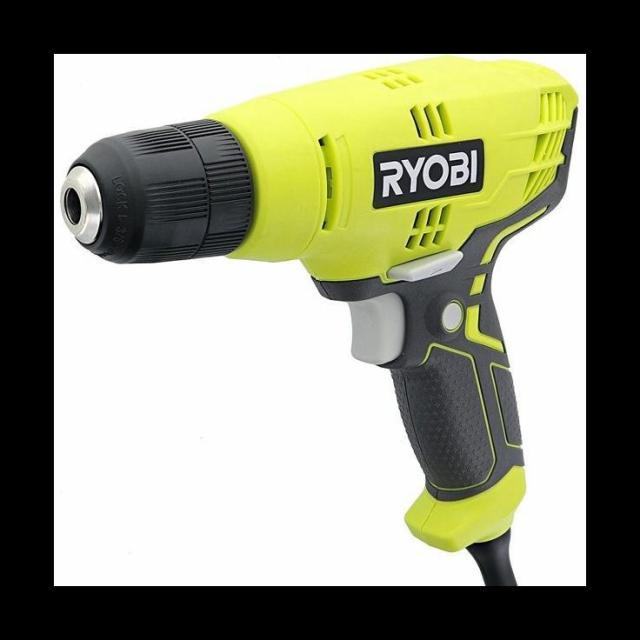drill: (59, 55, 580, 555)
